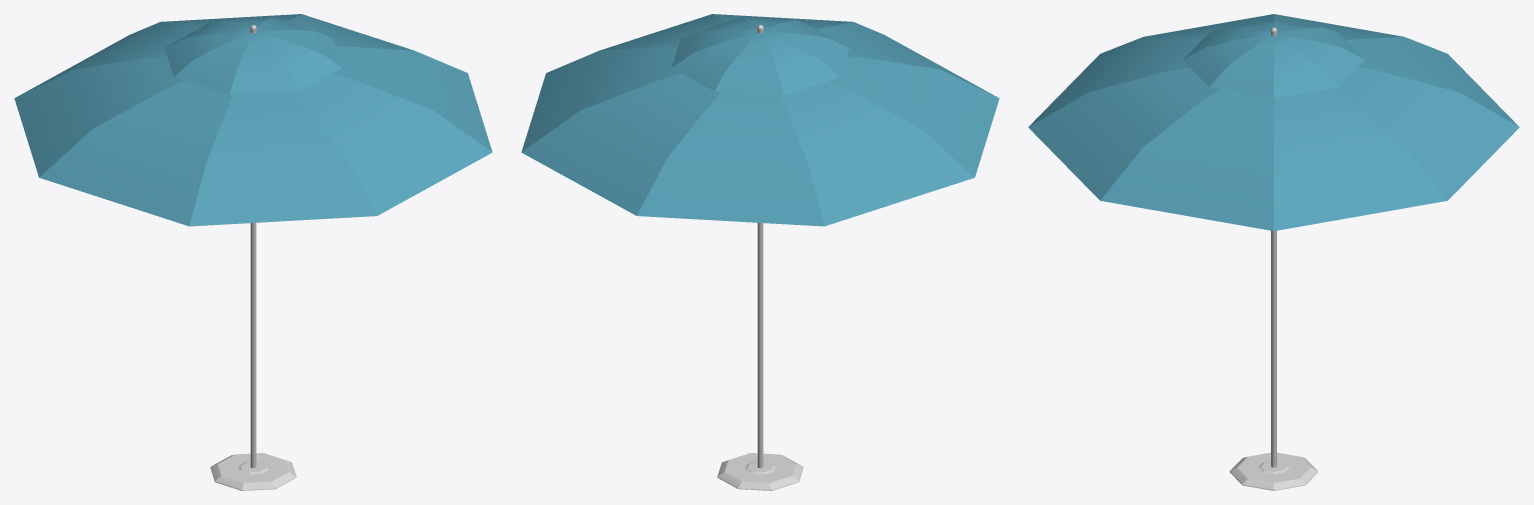
The model's file is T_parasol01.fbx.
3 views of the same model, side by side, from view 1: azimuth 30°, elevation 25°; view 2: azimuth 150°, elevation 25°; view 3: azimuth 270°, elevation 25° (orthographic).
Parts seen in each view (by area): view 1: parasol01; view 2: parasol01; view 3: parasol01.
Boxes of the visible parts, x1=… form: parasol01: x1=14, y1=14, x2=492, y2=490; parasol01: x1=521, y1=14, x2=999, y2=490; parasol01: x1=1028, y1=14, x2=1519, y2=490.
Size of the model in its own units: 1.67 by 1.66 by 1.67.
Materials: 1 (1 with a texture image).
